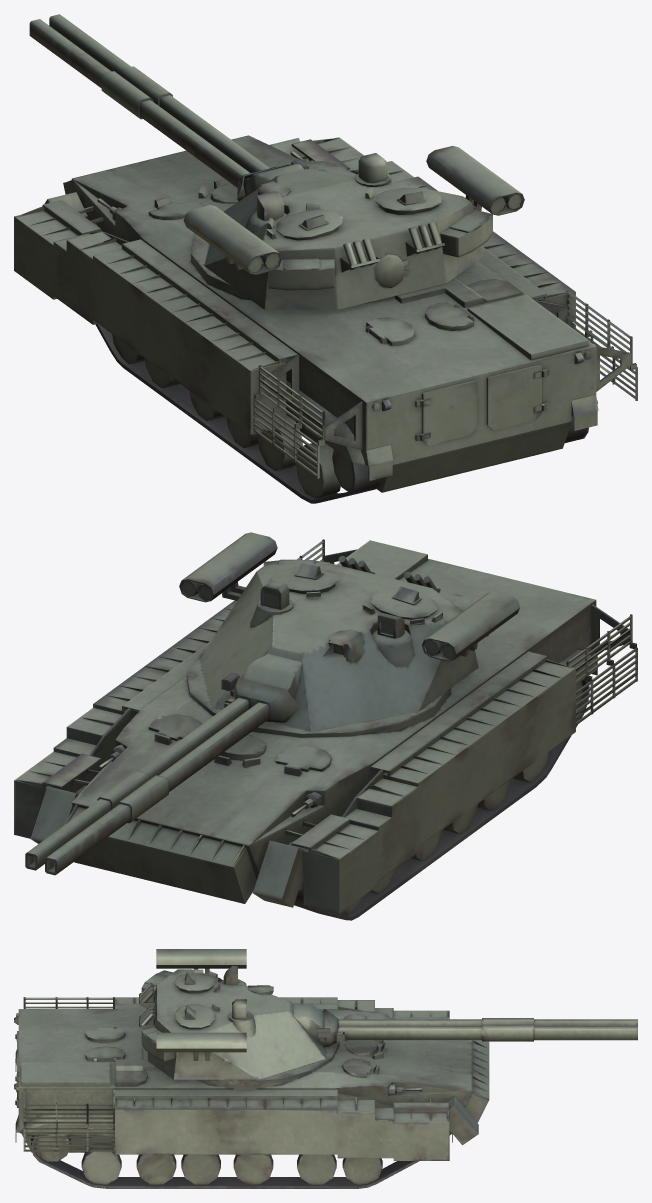
File: BMP-130-2.fbx
The picture shows the model from 3 angles, top to bottom: view 1: azimuth 30°, elevation 25°; view 2: azimuth 150°, elevation 25°; view 3: azimuth 270°, elevation 25°; orthographic projection. The views are drawn at different scales.
Visible parts, largest first — view 1: BMK-130-2 Hull, aBMK-130-2 Turret; view 2: BMK-130-2 Hull, aBMK-130-2 Turret; view 3: BMK-130-2 Hull, aBMK-130-2 Turret.
Boxes of the visible parts, box(x1,y1,x2,y2) form: BMK-130-2 Hull: box(14, 135, 637, 503); aBMK-130-2 Turret: box(29, 14, 524, 309); BMK-130-2 Hull: box(14, 539, 637, 920); aBMK-130-2 Turret: box(25, 532, 520, 875); BMK-130-2 Hull: box(14, 997, 489, 1188); aBMK-130-2 Turret: box(139, 949, 637, 1090).
Bounding box in the file's own units: 4.13 × 2.81 × 9.71.
